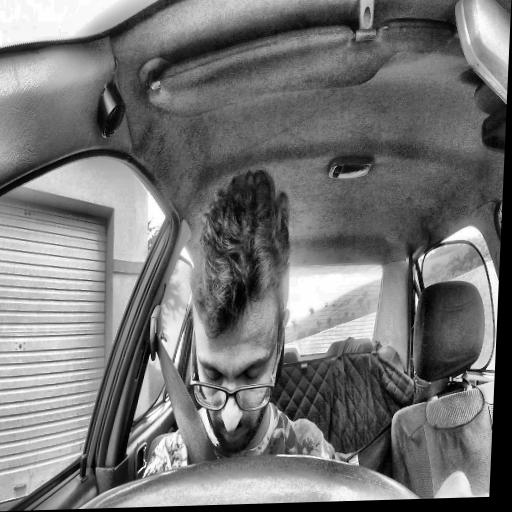drowsy: (181, 169, 296, 461)
